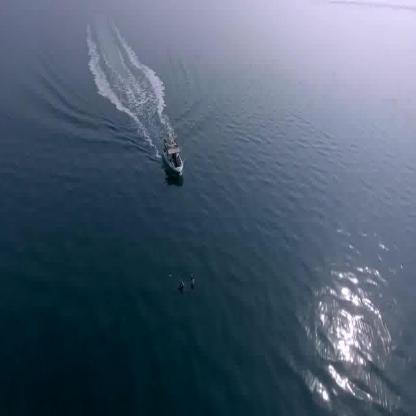Boat: (163, 133, 182, 178)
